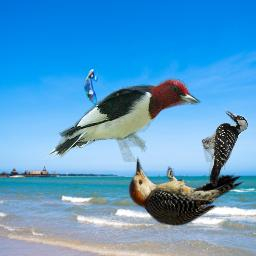Woodpecker: (43, 72, 205, 166), (119, 154, 249, 227), (202, 111, 249, 187)
